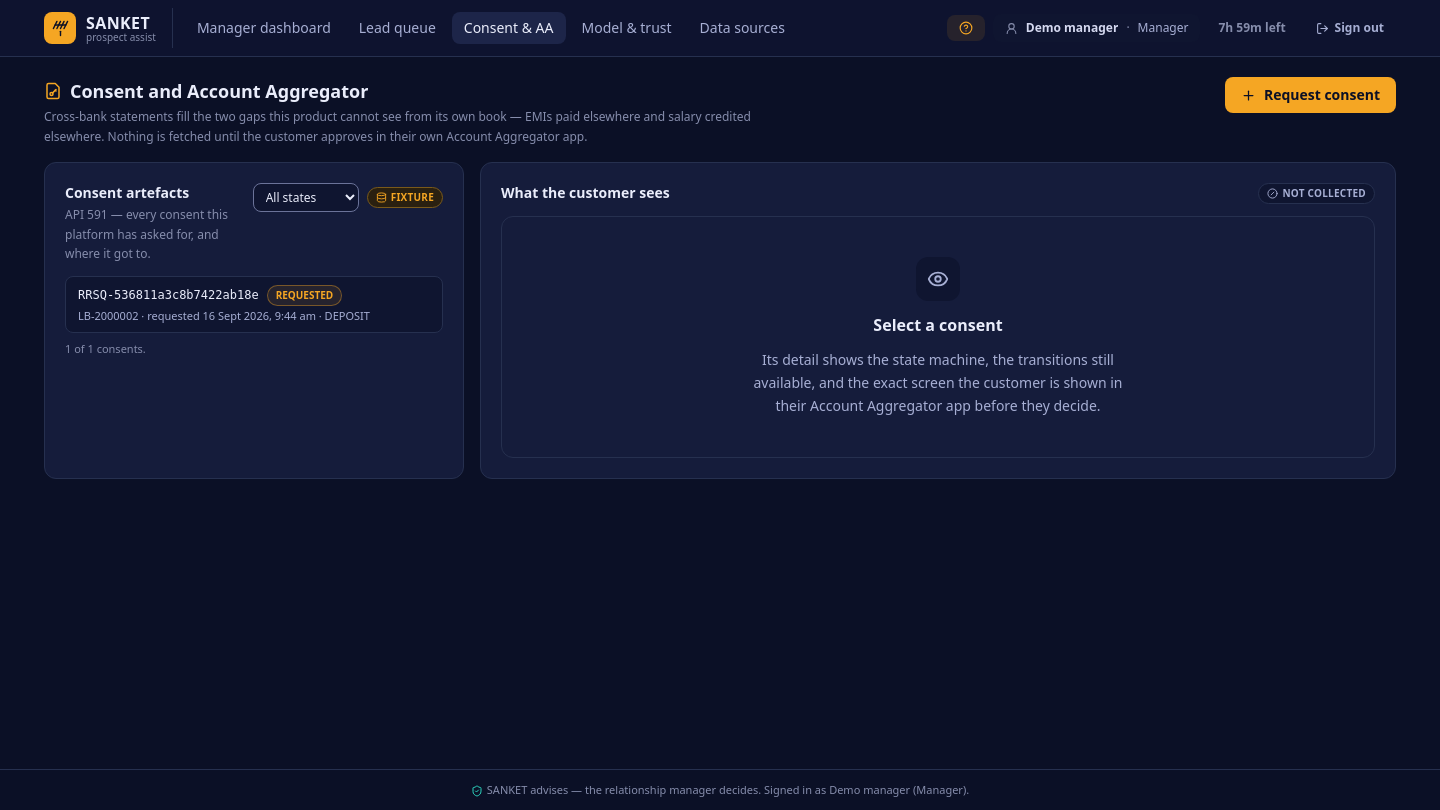
Test case: Consent — the detail › shows what the customer sees, including what we will NOT do
Step 1. Click the text "RRSQ-536811a3c8b7422ab18e" → {"x": 168, "y": 295}, box [78, 287, 259, 303]
(page scrolled)
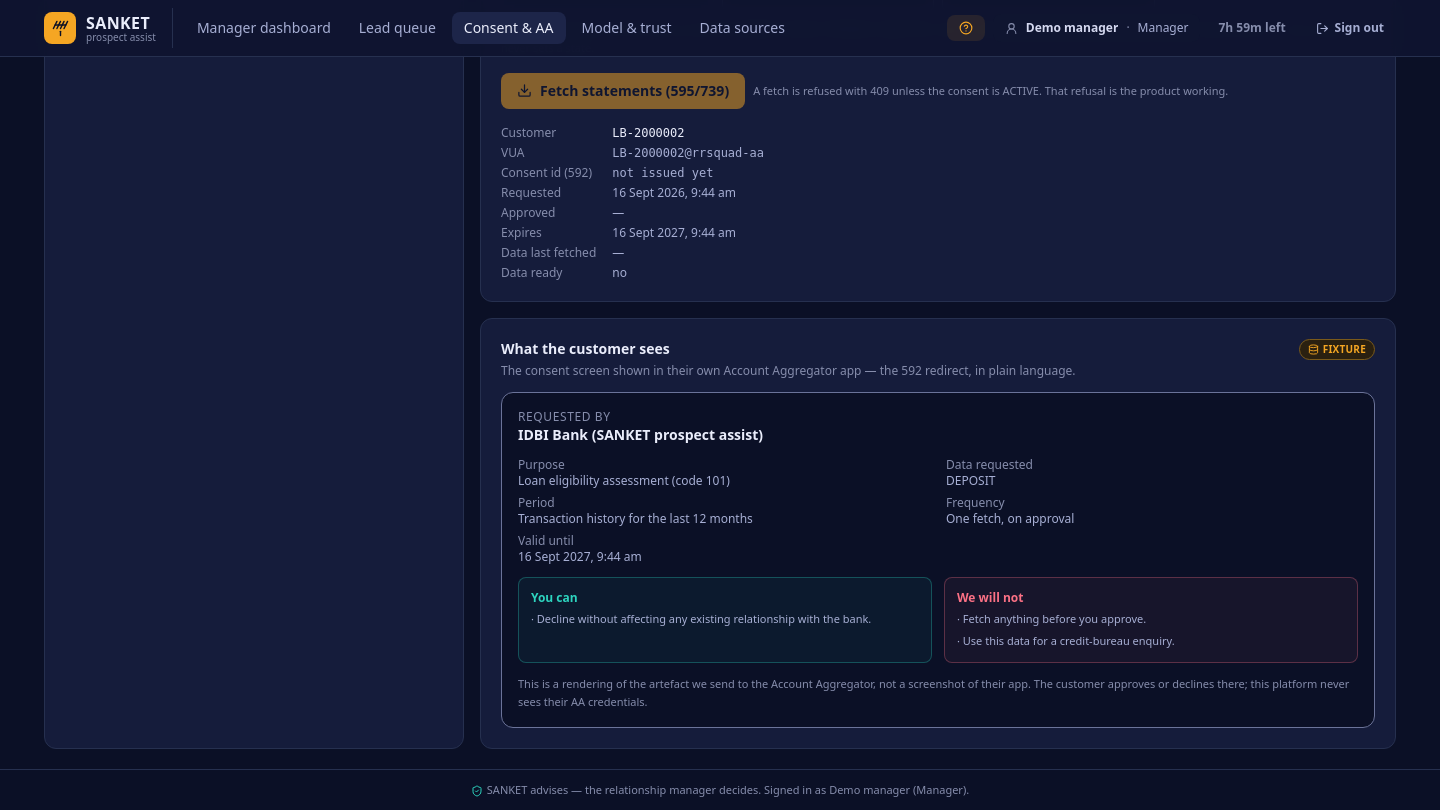
Now the text "We will not" is shown, box [957, 589, 1024, 606]
Now the list item "· Use this data for a credit-bureau enquiry." is shown, box [957, 633, 1175, 648]
Now the text "not a screenshot of" is shown, box [518, 676, 1349, 709]
